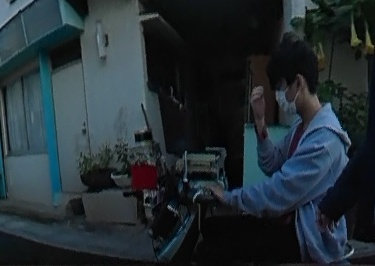person: (244, 35, 354, 266)
